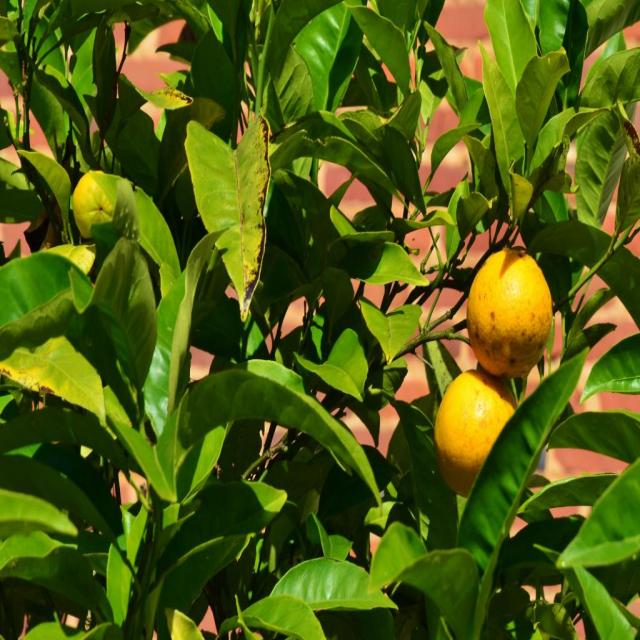Lemon: (467, 244, 552, 382), (435, 370, 519, 500), (75, 171, 118, 241)
